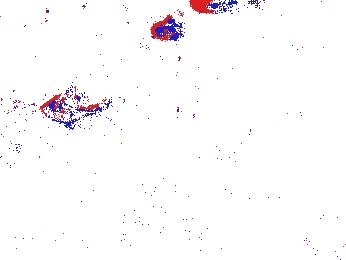X-ray fish: (41, 90, 103, 125)
red belly glassfish: (289, 40, 329, 58)
redtail glassfish: (194, 1, 263, 17)
